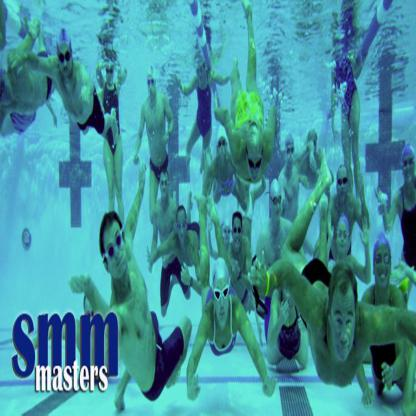face: (333, 297, 356, 363), (105, 228, 127, 279), (215, 274, 229, 328), (375, 250, 391, 289), (249, 149, 263, 183), (59, 49, 72, 79), (283, 274, 294, 308), (338, 224, 349, 254), (1, 78, 12, 107), (87, 302, 98, 331), (404, 155, 415, 183), (272, 193, 282, 222), (338, 175, 348, 203), (178, 217, 188, 243), (234, 220, 243, 248), (219, 135, 227, 160), (287, 144, 295, 167), (196, 64, 205, 84), (148, 75, 155, 96), (161, 178, 168, 198), (107, 64, 114, 84), (310, 139, 317, 156), (225, 227, 230, 243), (334, 13, 338, 23)
